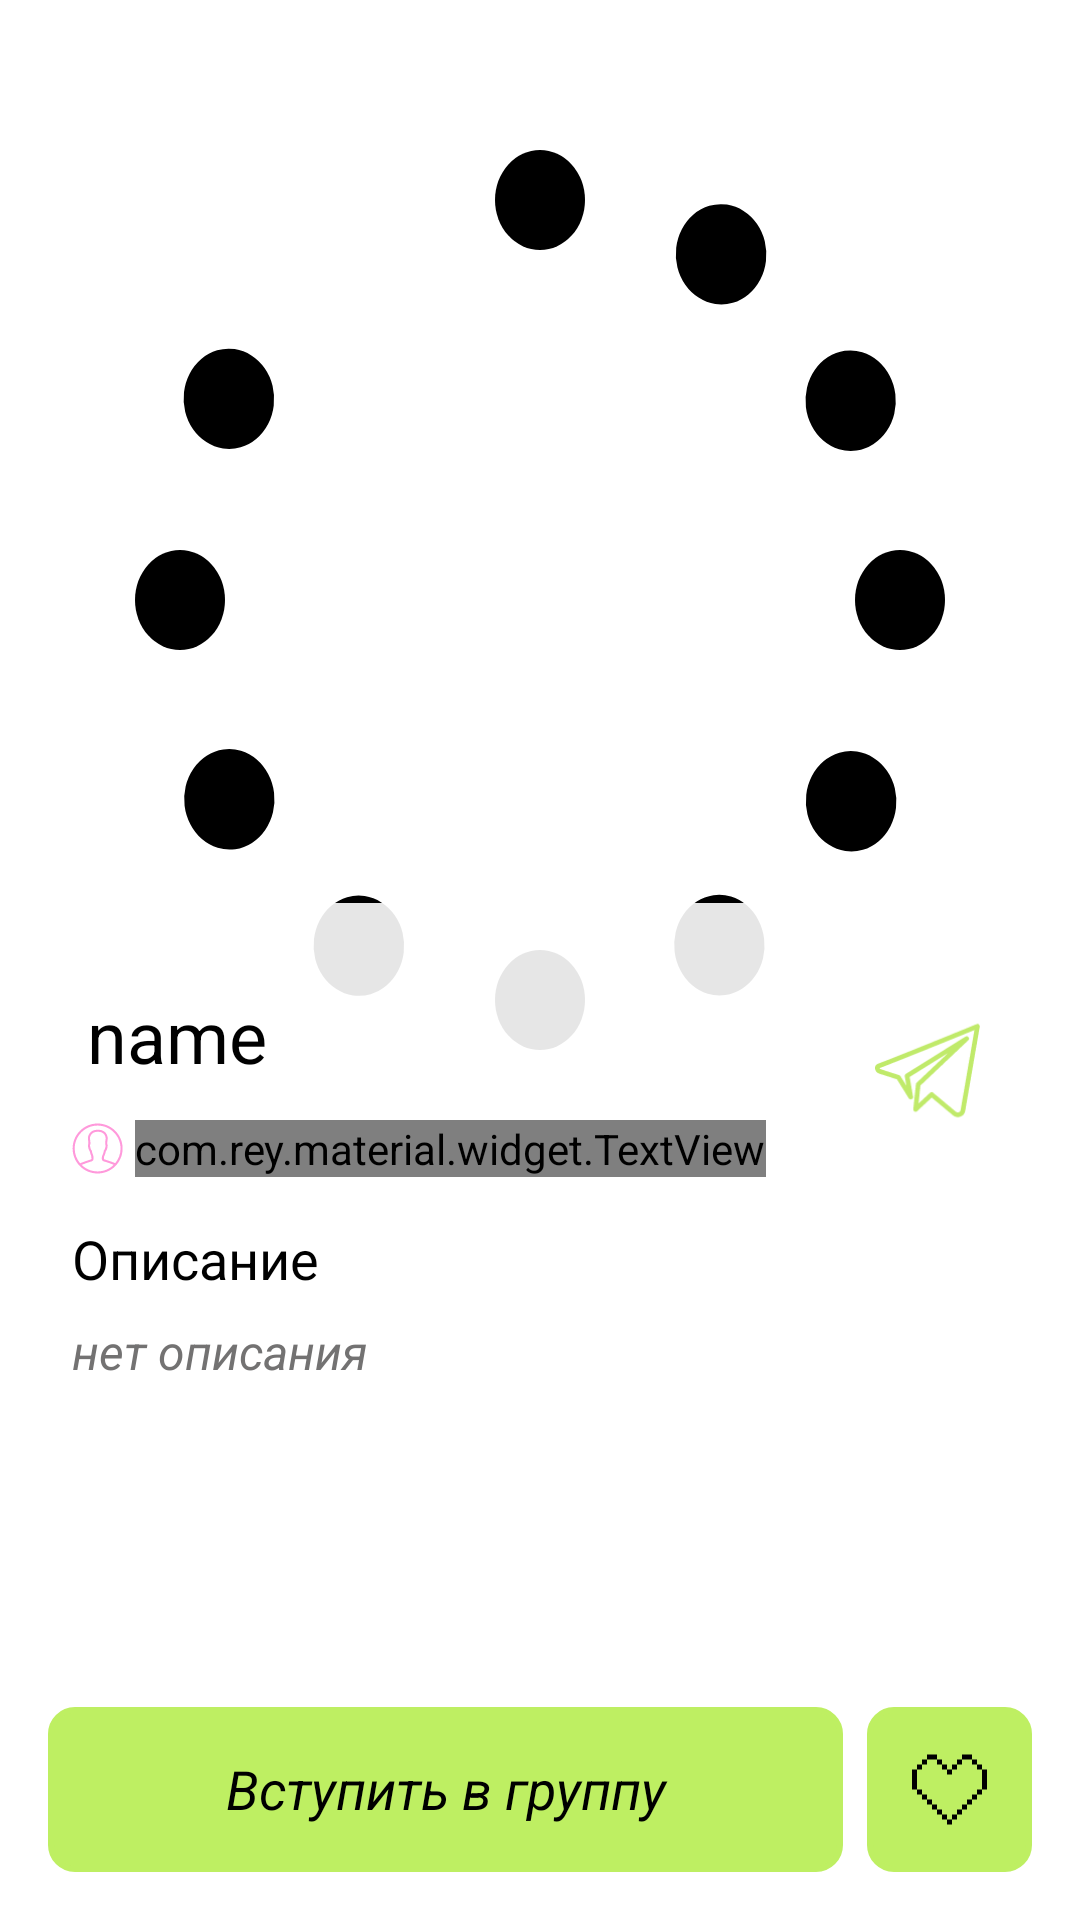

Icon bounding boxes for this 1080×1920 phone screenshot, format (x1, y1, x2, y2):
like: (912, 1754, 987, 1825)
send: (875, 1023, 980, 1118)
user: (72, 1123, 123, 1174)
